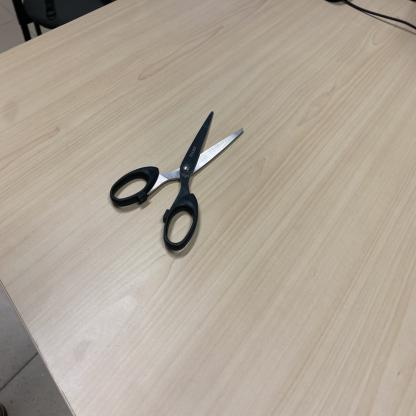scissors: (110, 107, 247, 260)
